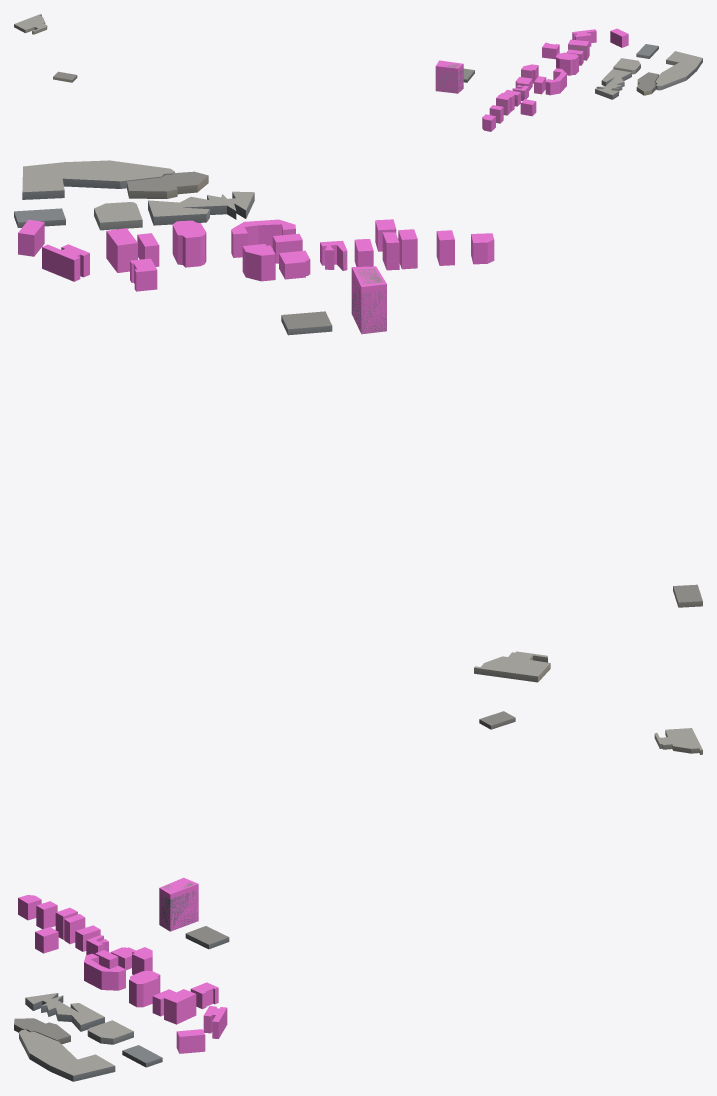
Rendered from bld_17_5.fbx.
3 views of the same model, one above another, from view 1: azimuth 30°, elevation 25°; view 2: azimuth 150°, elevation 25°; view 3: azimuth 270°, elevation 25° (orthographic). The views are drawn at different scales.
Parts seen in each view (by area): view 1: bld_17_5_COL, bld_17_5_LOD0; view 2: bld_17_5_COL, bld_17_5_LOD0; view 3: bld_17_5_COL, bld_17_5_LOD0.
Boxes of the visible parts, x1,y1,x2,y2 form: bld_17_5_COL: [435, 28, 628, 131]; bld_17_5_LOD0: [14, 14, 702, 122]; bld_17_5_COL: [18, 219, 494, 333]; bld_17_5_LOD0: [14, 160, 702, 682]; bld_17_5_COL: [18, 877, 227, 1053]; bld_17_5_LOD0: [14, 711, 702, 1081].
Size of what is drawn, in the model's own units: 1715 by 81.06 by 1362.
